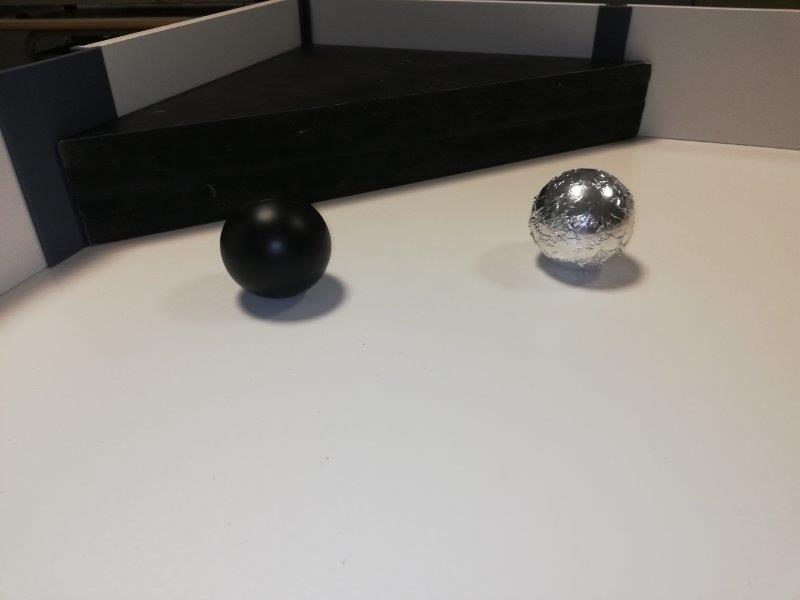bianca: (527, 166, 636, 274)
nera: (221, 190, 332, 302)
